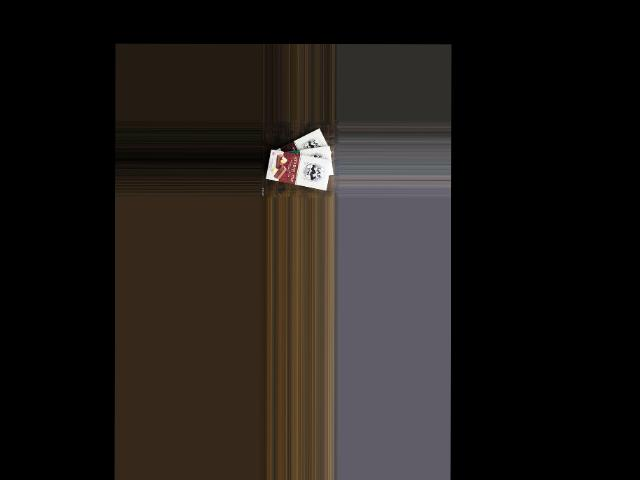chocolate: (266, 127, 333, 169)
